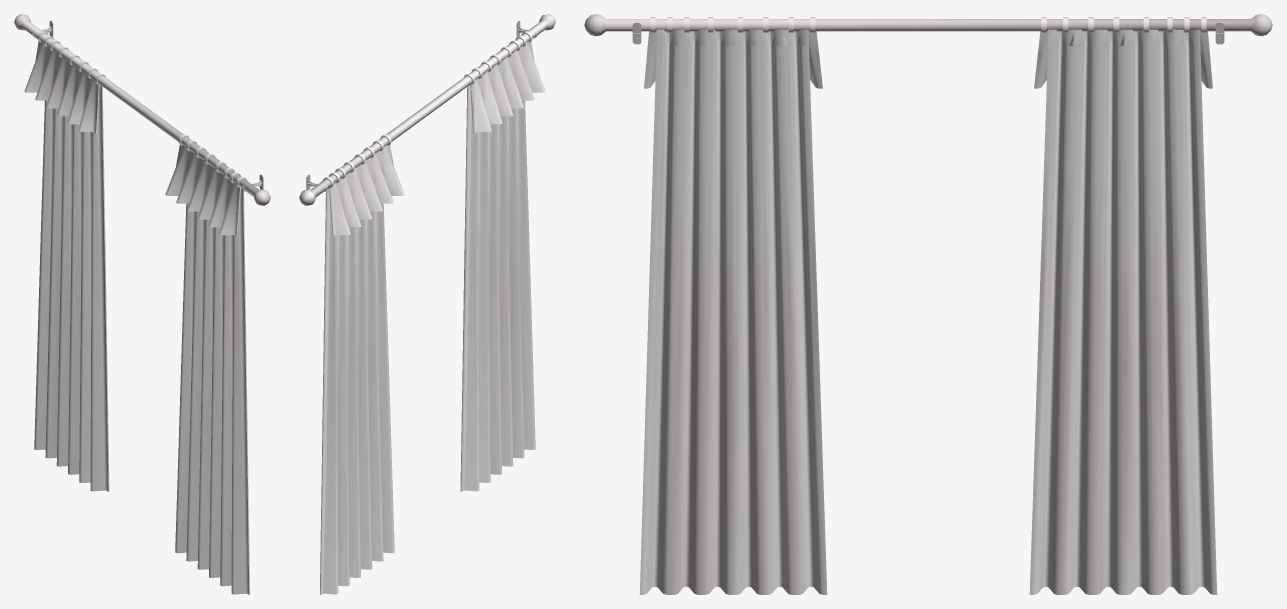
The model's file is Doll_Room_Curtain.FBX.
3 renders of one model, left to right at view 1: azimuth 30°, elevation 25°; view 2: azimuth 150°, elevation 25°; view 3: azimuth 270°, elevation 25°, orthographic. The views are drawn at different scales.
Visible parts, largest first — view 1: Doll_Room_Curtain; view 2: Doll_Room_Curtain; view 3: Doll_Room_Curtain.
Boxes of the visible parts, bbox=[...] form: Doll_Room_Curtain: bbox=[14, 14, 270, 594]; Doll_Room_Curtain: bbox=[299, 14, 555, 594]; Doll_Room_Curtain: bbox=[584, 14, 1272, 594].
Bounding box in the file's own units: 13.67 × 156 × 168.
